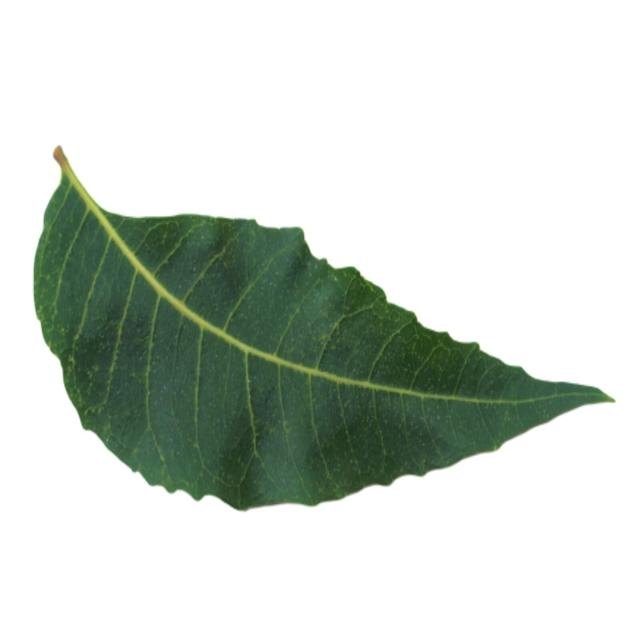Medicinal-Neem: (27, 136, 616, 510)
